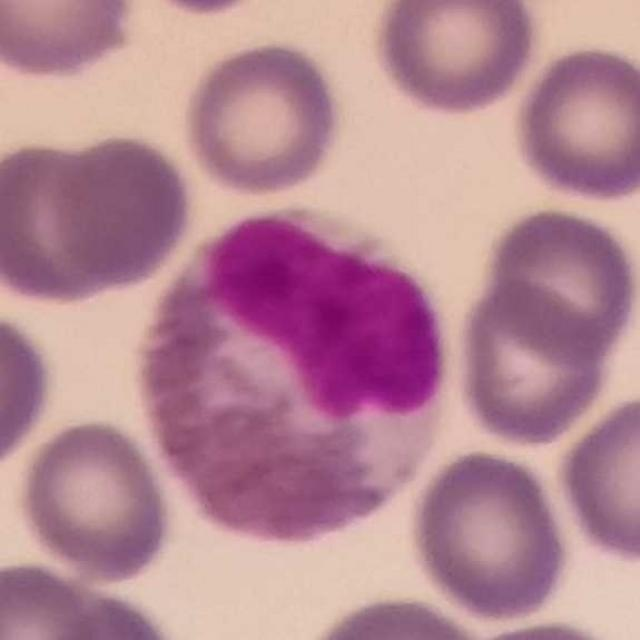eosino: (141, 206, 446, 544)
